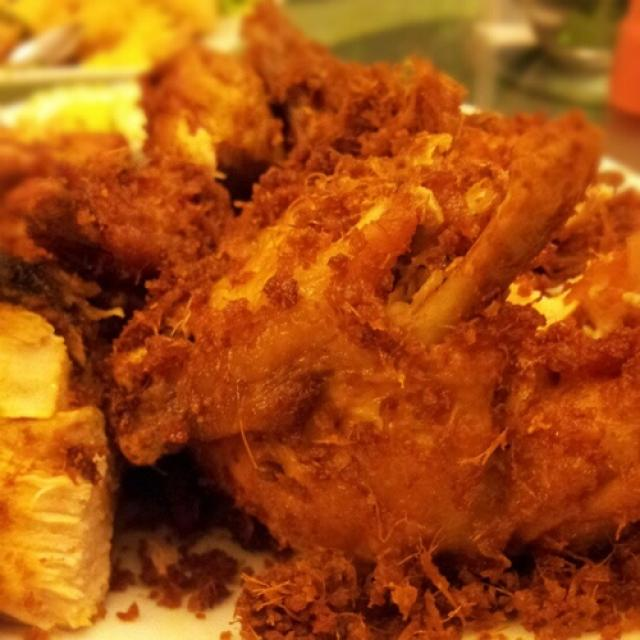鸡肉料理 含炸鸡: (33, 23, 613, 621)
